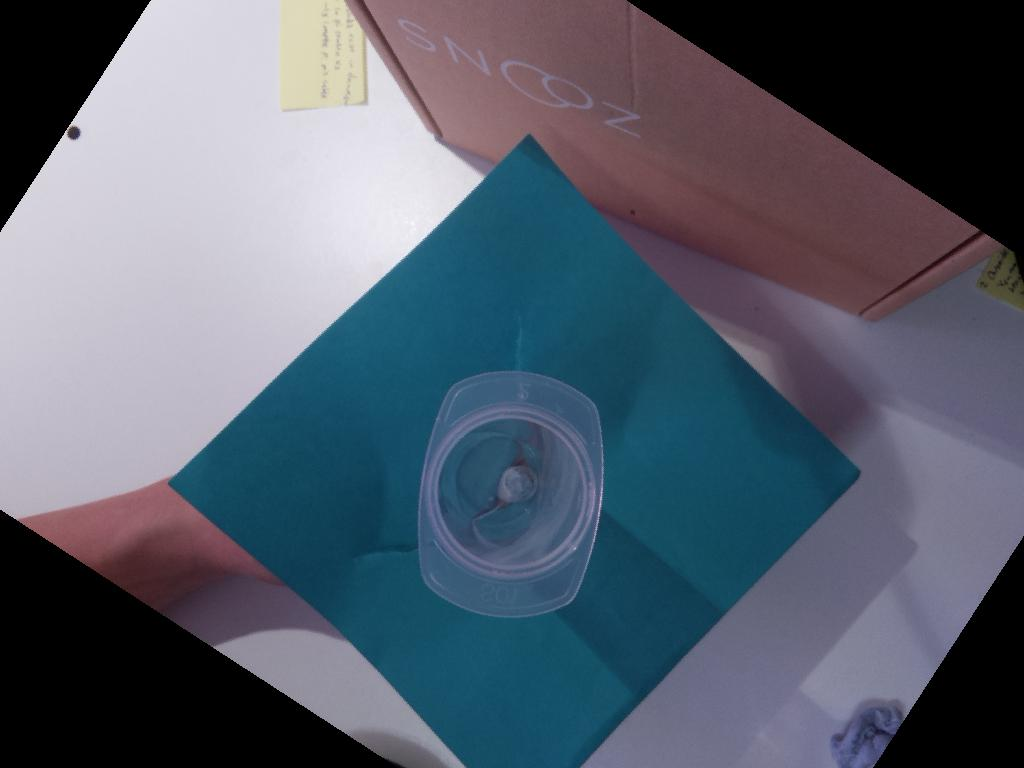clean: (414, 364, 613, 619)
